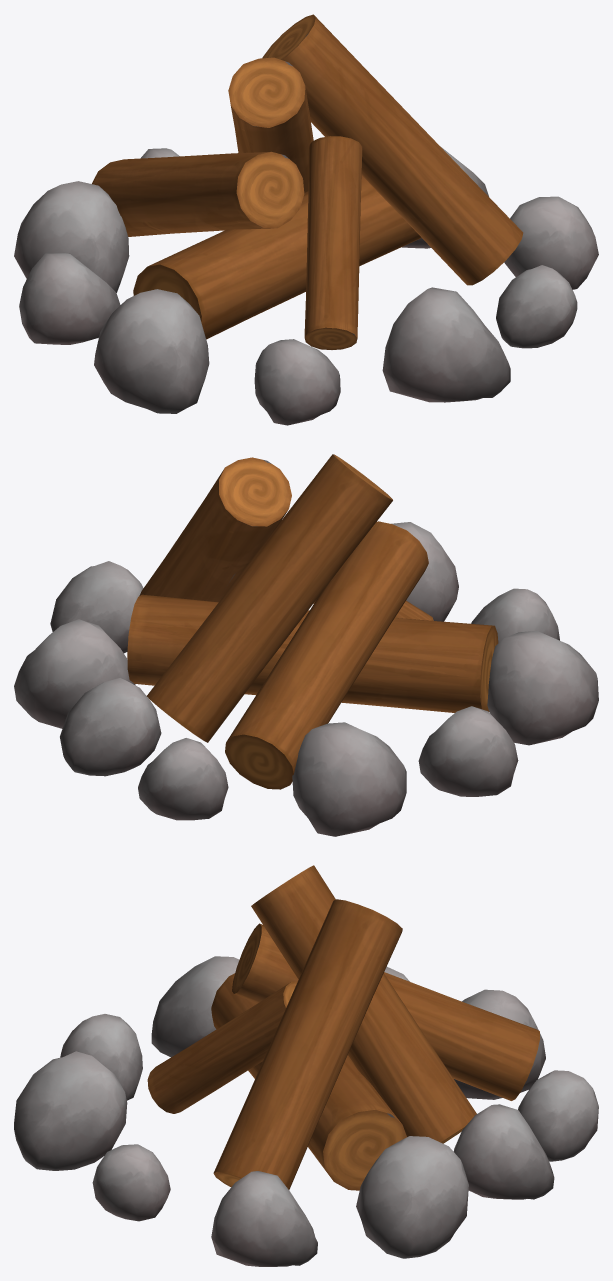
File: SM_Environment_Campfire.fbx
3 views of the same model, one above another, from view 1: azimuth 30°, elevation 25°; view 2: azimuth 150°, elevation 25°; view 3: azimuth 270°, elevation 25° (orthographic).
Parts seen in each view (by area): view 1: Campfire; view 2: Campfire; view 3: Campfire.
Part boxes in pixels (x1=…): Campfire: x1=14, y1=14, x2=598, y2=425; Campfire: x1=14, y1=454, x2=598, y2=836; Campfire: x1=14, y1=865, x2=598, y2=1266.
Size of the model in its own units: 0.8869 by 0.4539 by 0.8943.
Materials: 1 (1 with a texture image).
